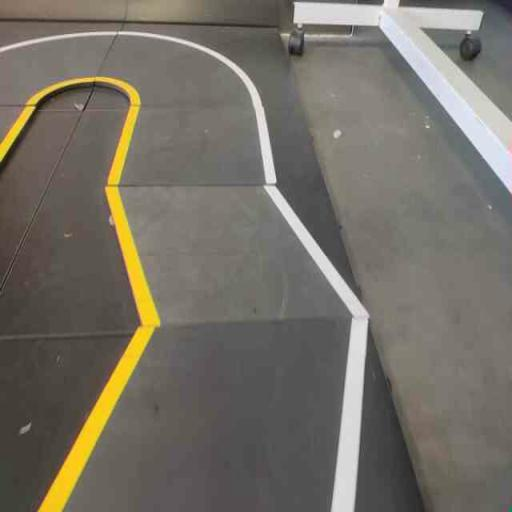crossleft: (68, 183, 388, 332)
